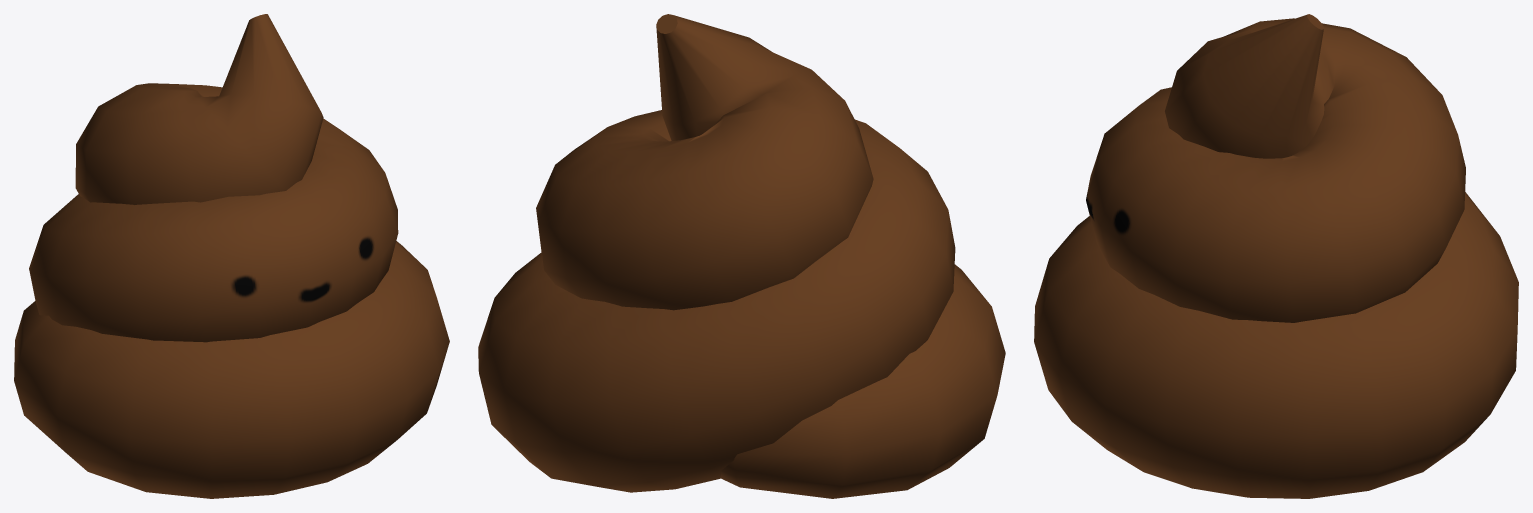
The model's file is PooFriend-001.fbx.
The picture shows the model from 3 angles, left to right: view 1: azimuth 30°, elevation 25°; view 2: azimuth 150°, elevation 25°; view 3: azimuth 270°, elevation 25°; orthographic projection. The views are drawn at different scales.
Visible parts, largest first — view 1: PooFriend-001; view 2: PooFriend-001; view 3: PooFriend-001.
Boxes of the visible parts, box(x1,y1,x2,y2) form: PooFriend-001: box(14, 14, 449, 498); PooFriend-001: box(478, 14, 1005, 498); PooFriend-001: box(1034, 14, 1518, 498).
Size of the model in its own units: 1.25 by 1.19 by 1.19.
Materials: 1 (1 with a texture image).
